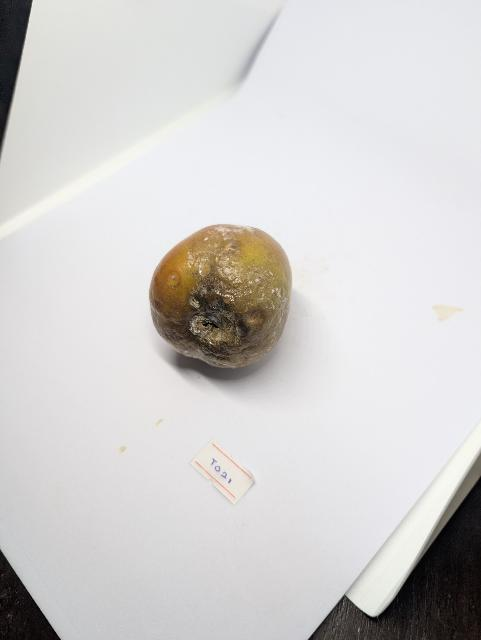defect: (146, 220, 296, 372)
